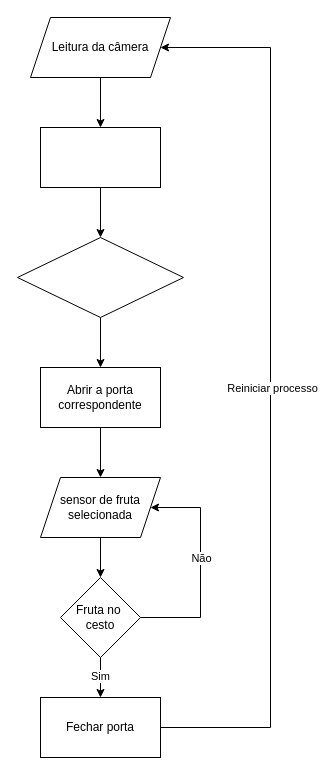
The diagram is 334 pixels wide and 775 high, and some of its shapes have lost their labels. Each missing label, with the centre of its shape:
Processamento e identificação da fruta: point 100,277
Pré-processamento da imagem: point 100,157
